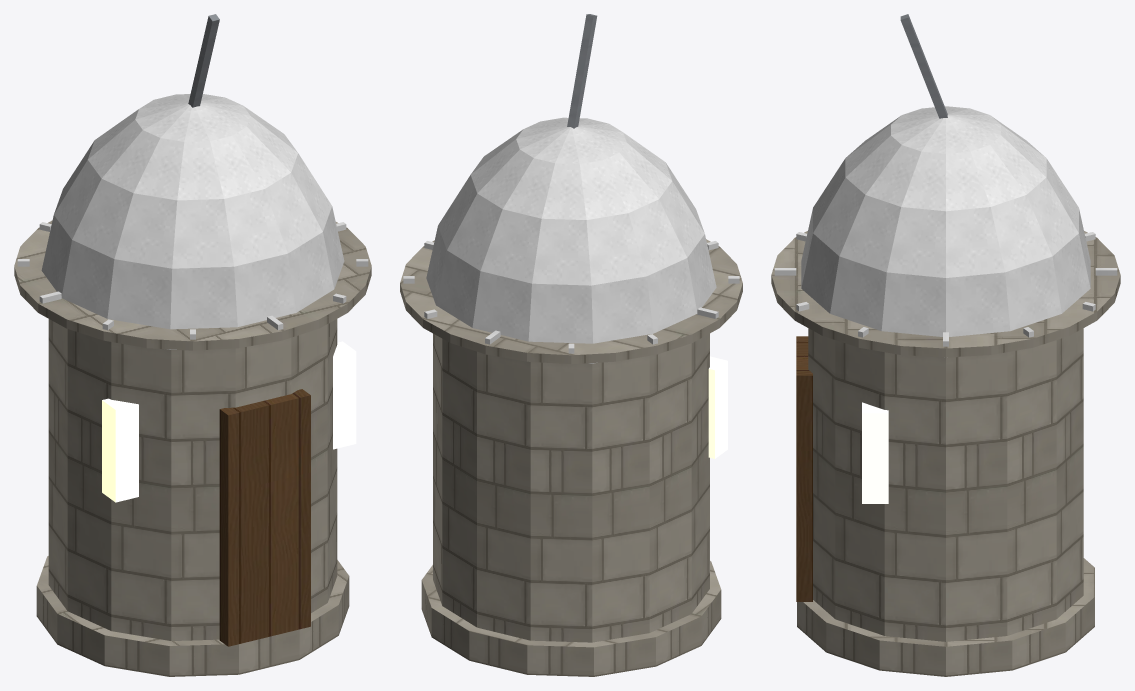
File: protocol.euler.glb
3 renders of one model, left to right at view 1: azimuth 30°, elevation 25°; view 2: azimuth 150°, elevation 25°; view 3: azimuth 270°, elevation 25°, orthographic. The views are drawn at different scales.
Parts seen in each view (by area): view 1: building.protocol.euler; view 2: building.protocol.euler; view 3: building.protocol.euler.
Boxes of the visible parts, x1,y1,x2,y2 form: building.protocol.euler: (14, 14, 371, 676); building.protocol.euler: (400, 14, 742, 676); building.protocol.euler: (771, 14, 1120, 676).
Size of the model in its own units: 2.1 by 3.96 by 2.1.
Materials: 6 (5 with a texture image).
